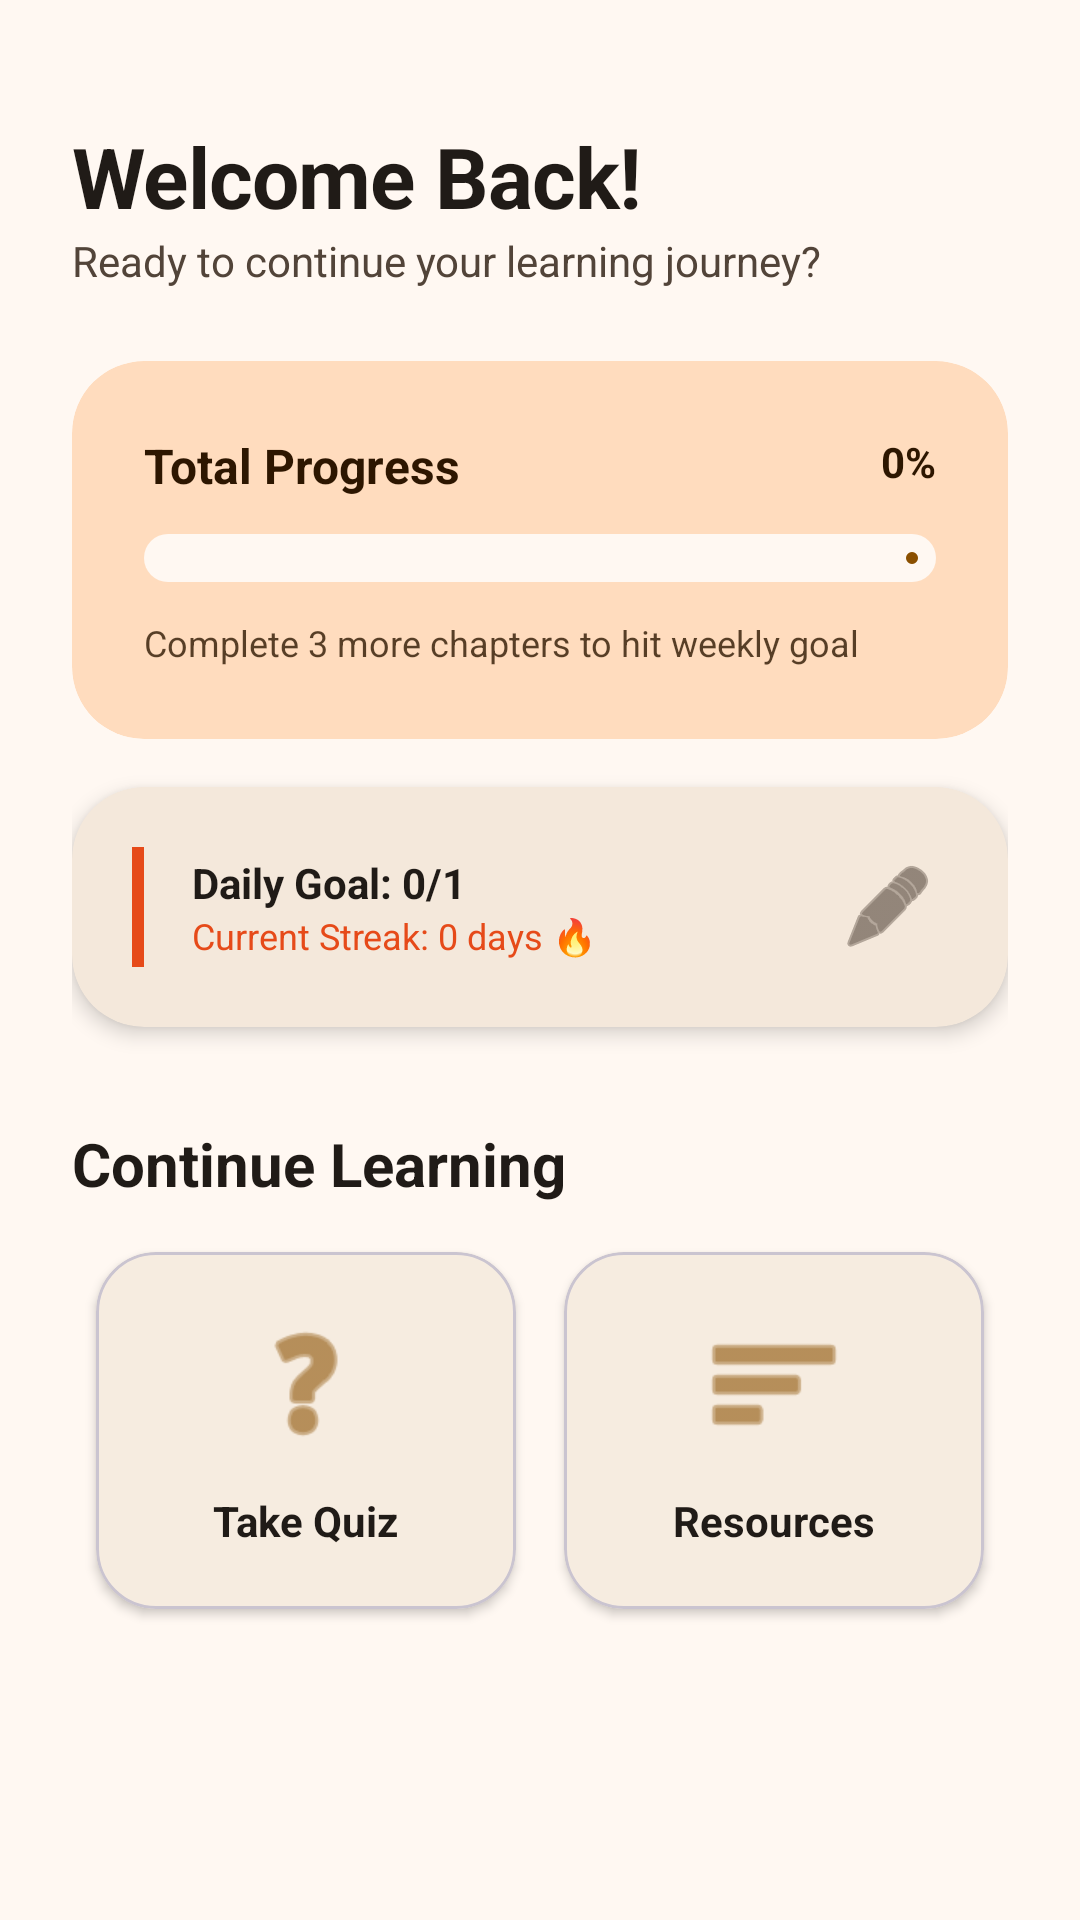

Icon bounding boxes for this 1080 x 1920 phone screenshot, format (x1, y1, x2, y2):
edit: (847, 866, 928, 947)
help: (275, 1332, 338, 1436)
sort by size: (712, 1344, 836, 1425)
